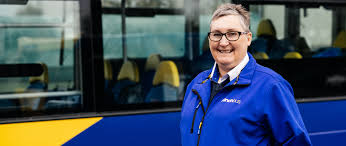bus: (1, 1, 344, 145)
